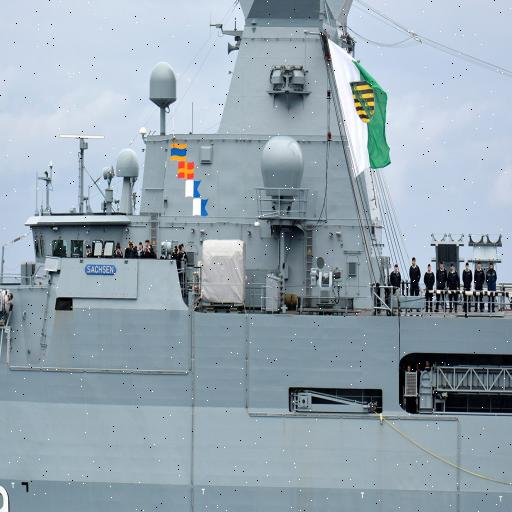Fragata: (1, 5, 361, 512)
